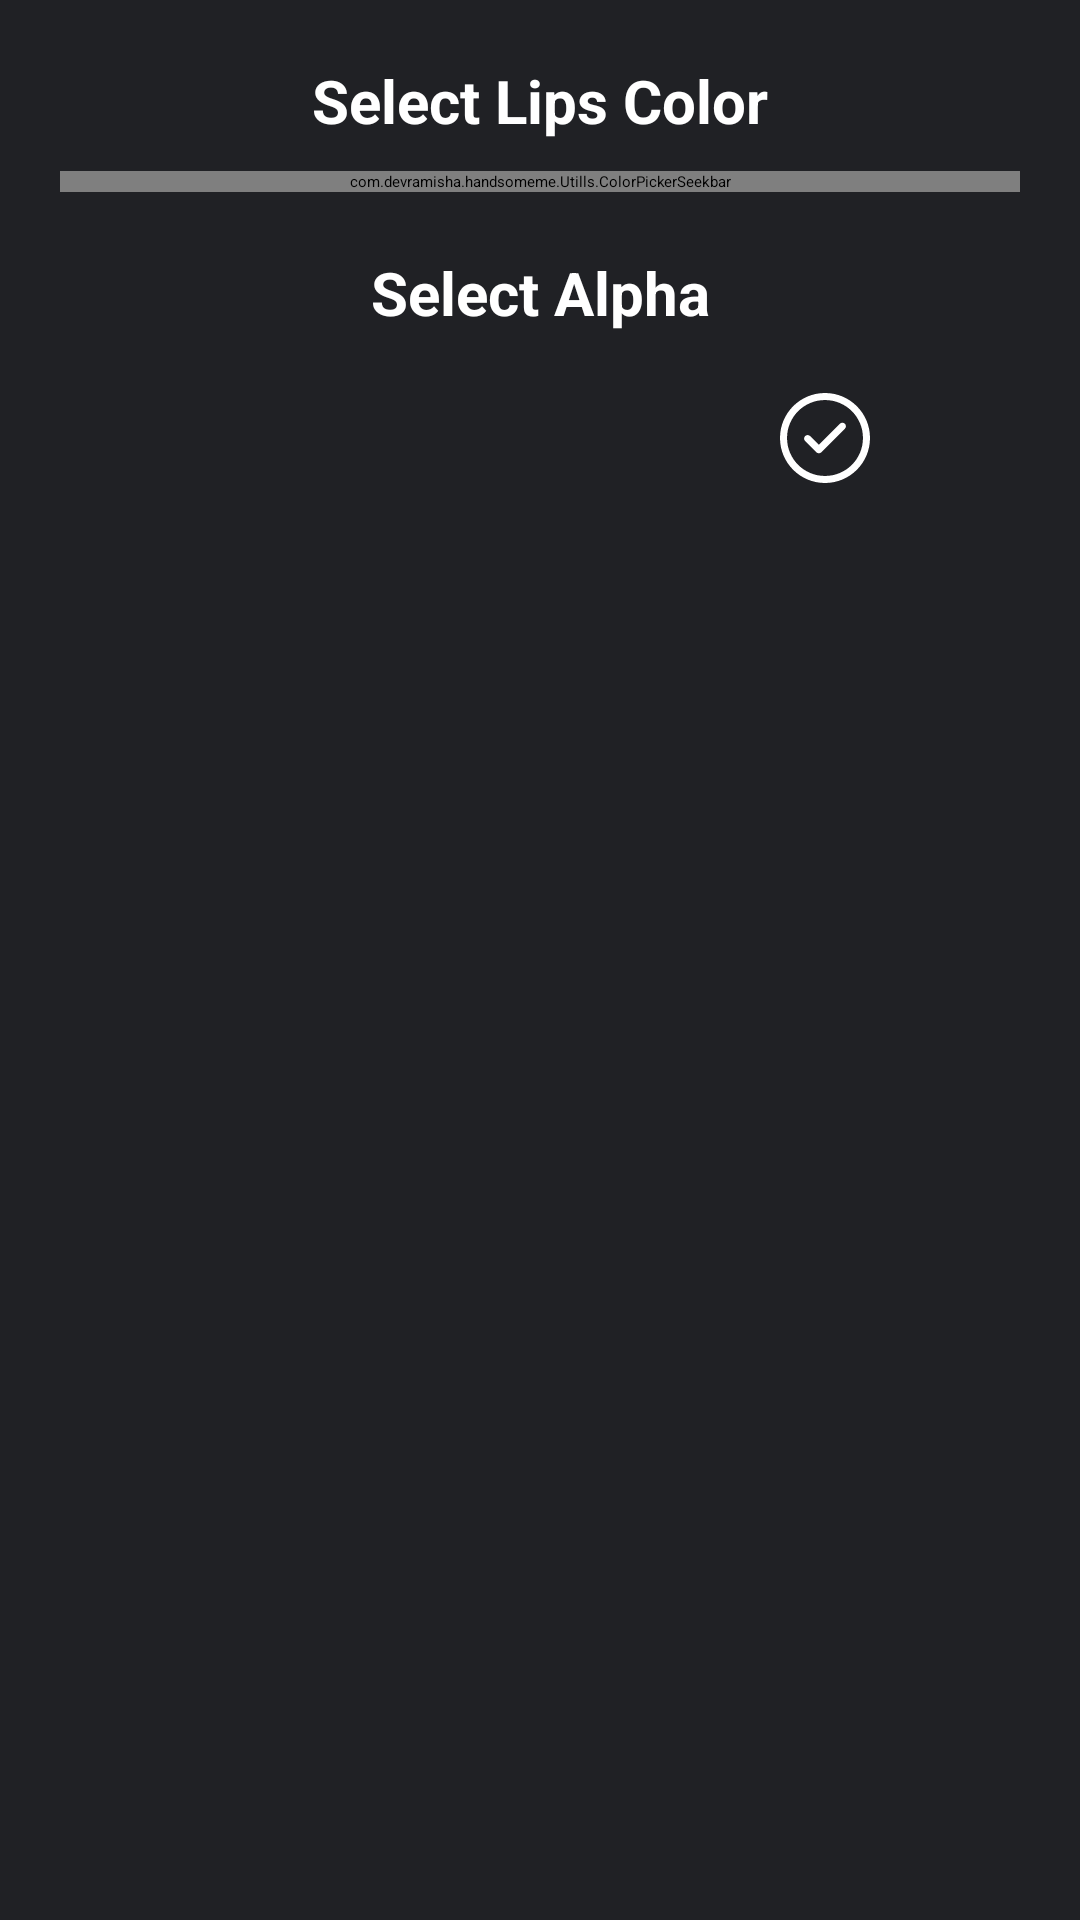

Screen size 1080 x 1920. Icon name, then its center in pixels as (x,y):
correct: (825,438)
